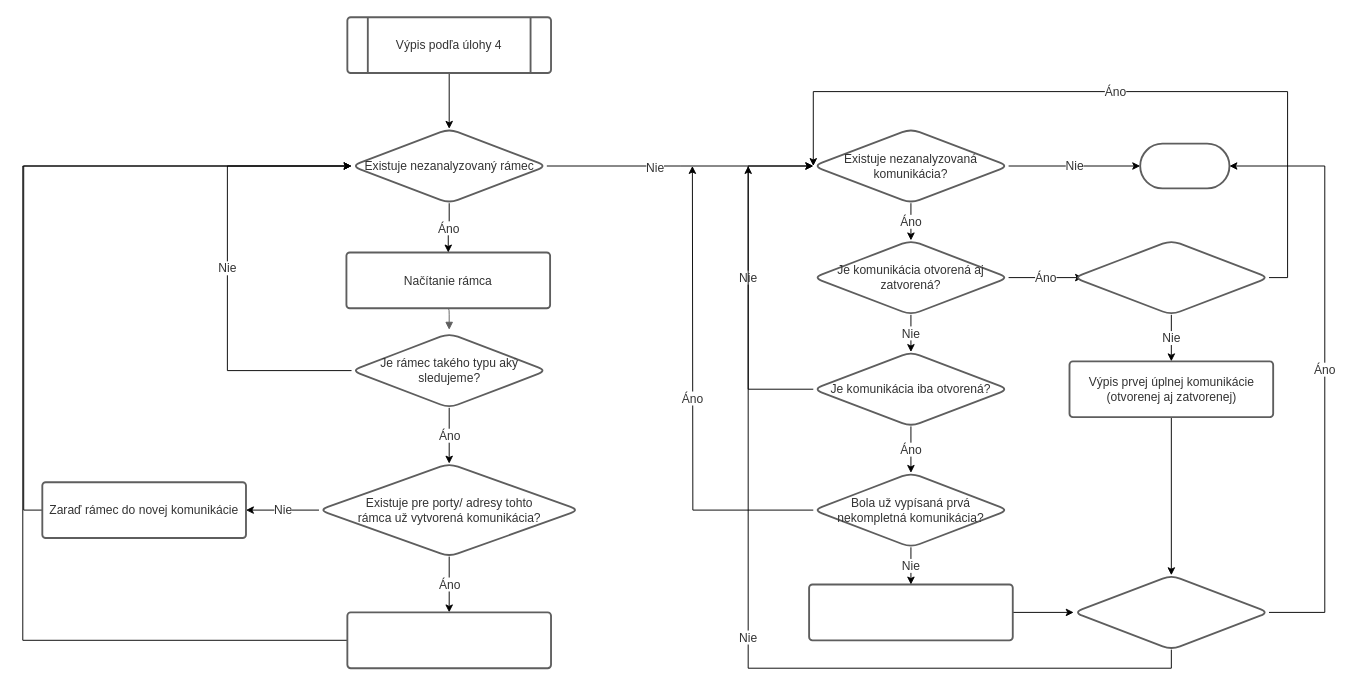
Image size: 1351x692. Some labels were removed from this diagram. Each missing label, with the centre of its shape:
Bola už vypísaná prvá úplná aj prvá nekompletná komunikácia?: the point at 1170,612
Bola už vypísaná prvá úplná komunikácia?: the point at 1170,277
Koniec úlohy: the point at 1184,165
Výpis prvej nekompletnej komunikácie (otvorenej a nezatvorenej): the point at 910,612
Zaraď rámec do existujúcej komunikácie: the point at 448,640
